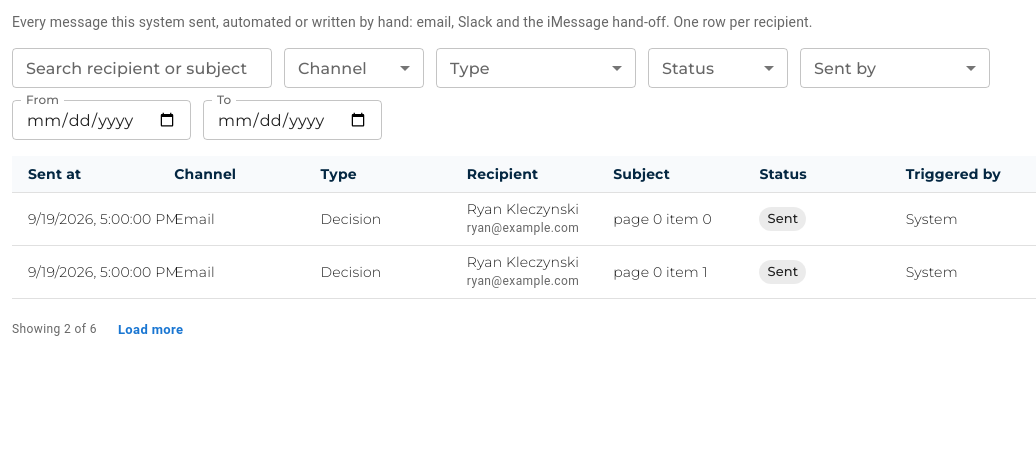
paging through a long log › appends the next page instead of replacing what is shown
Check: the text "page 0 item 0" is shown, box [597,193,743,246]
Click the button "Load more" at coordinates (151, 330), box [113,315,188,346]
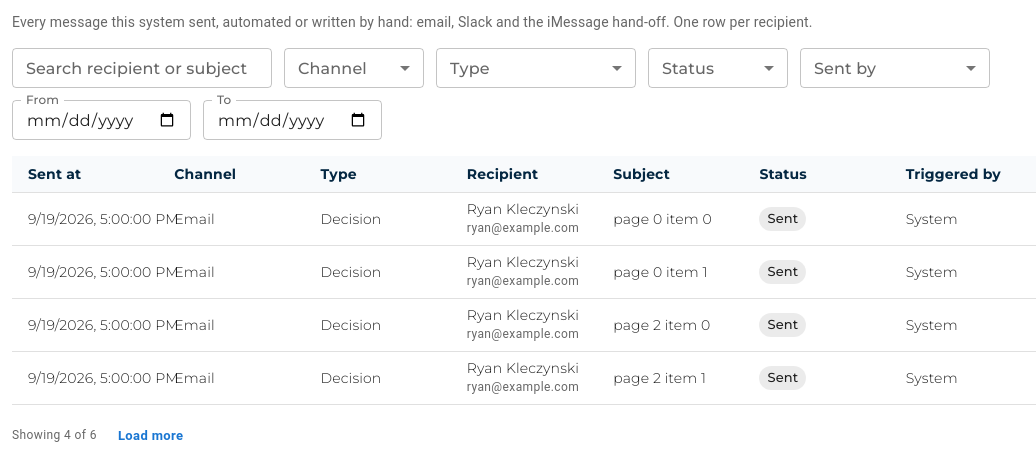
Check: the text "page 0 item 0" is shown, box [597,193,743,246]
Check: the text "page 2 item 0" is shown, box [597,299,743,352]
